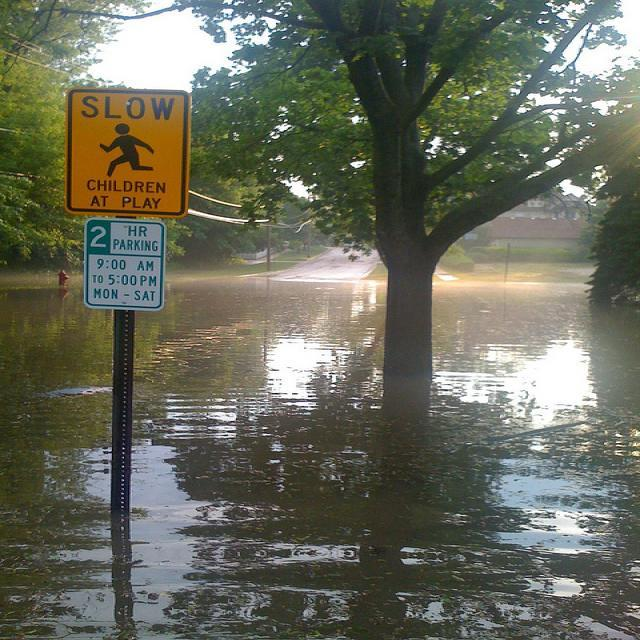fire_hydrant: (58, 268, 70, 289)
